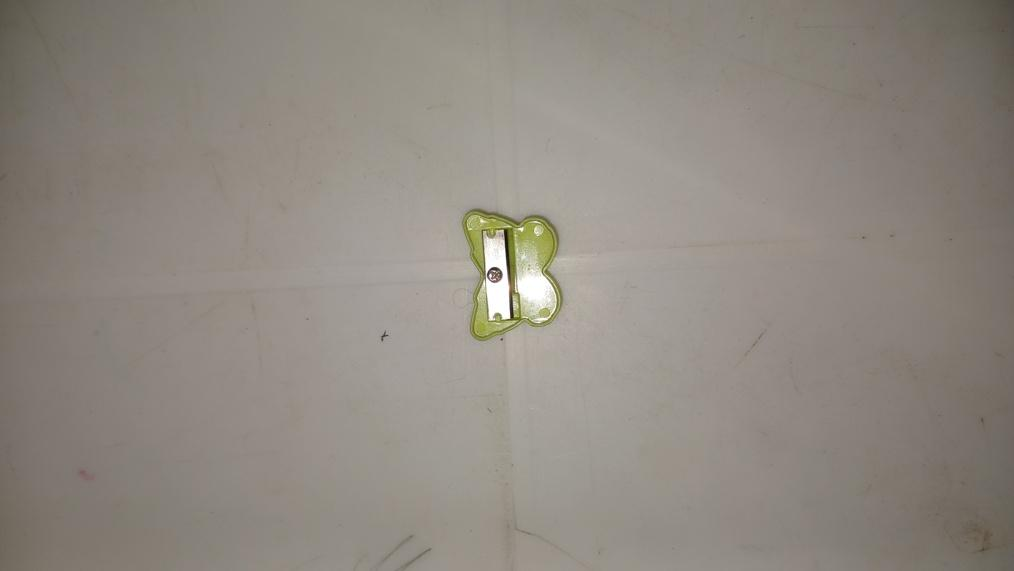Sharpener: (461, 207, 563, 346)
